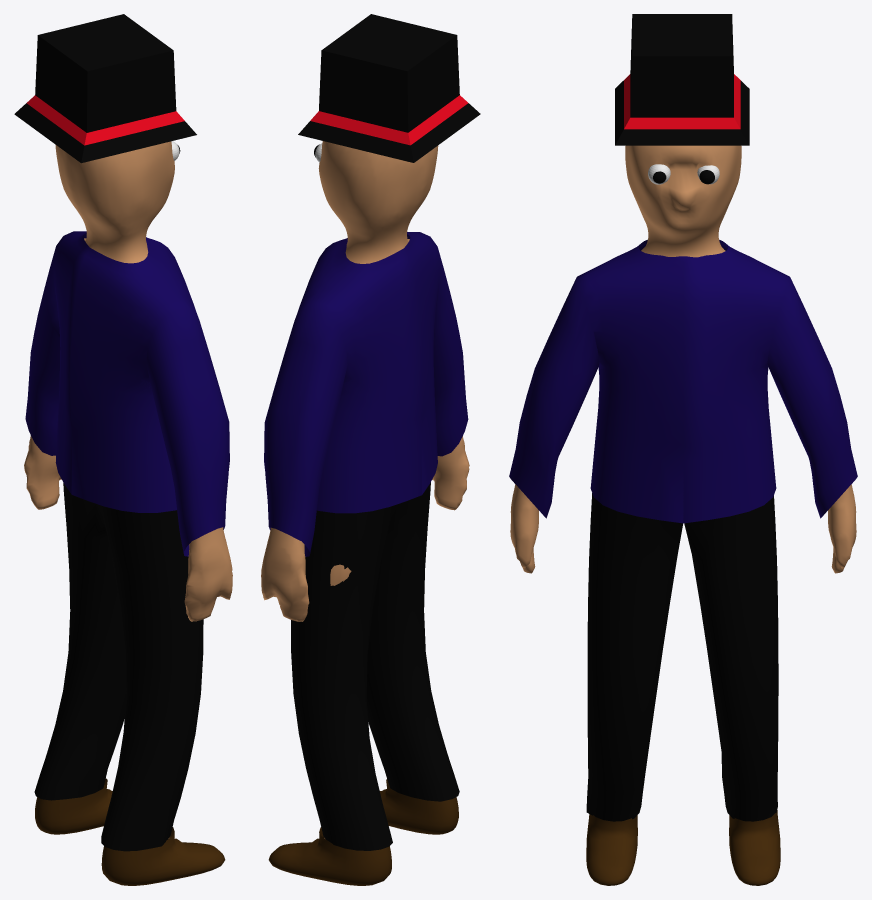
File: Profesor para proyecto.fbx
3 renders of one model, left to right at view 1: azimuth 30°, elevation 25°; view 2: azimuth 150°, elevation 25°; view 3: azimuth 270°, elevation 25°, orthographic.
Parts seen in each view (by area): view 1: Cube.001, Cube.002, Cube.004, Cube, Cube.003; view 2: Cube.001, Cube.002, Cube.004, Cube, Cube.003; view 3: Cube.001, Cube.002, Cube.004, Cube, Cube.003.
Part boxes in pixels (<box>): Cube.001: <box>25,231,229,556</box>; Cube.002: <box>34,483,203,851</box>; Cube.004: <box>14,14,196,163</box>; Cube: <box>24,141,232,838</box>; Cube.003: <box>35,778,225,885</box>; Cube.001: <box>264,232,468,556</box>; Cube.002: <box>291,482,459,850</box>; Cube.004: <box>298,14,480,162</box>; Cube: <box>261,141,469,838</box>; Cube.003: <box>268,779,458,885</box>; Cube.001: <box>509,239,857,523</box>; Cube.002: <box>586,493,778,821</box>; Cube.004: <box>615,14,749,145</box>; Cube: <box>510,145,856,573</box>; Cube.003: <box>586,810,780,885</box>.
Bounding box in the file's own units: 145 × 772 × 299.
